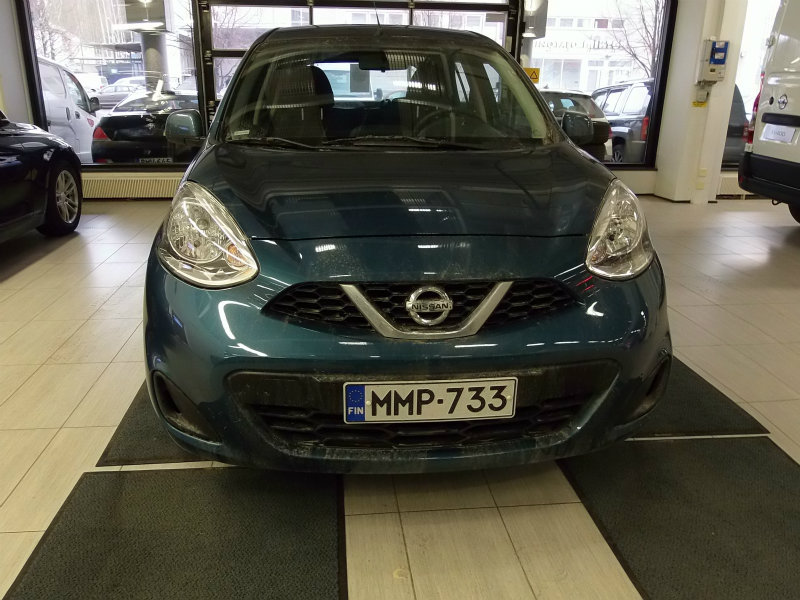license: (338, 379, 517, 430)
